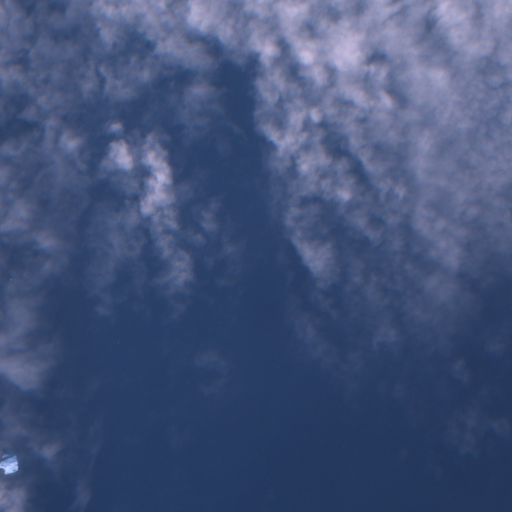Iceberg: (0, 455, 18, 474), (2, 454, 7, 457)
